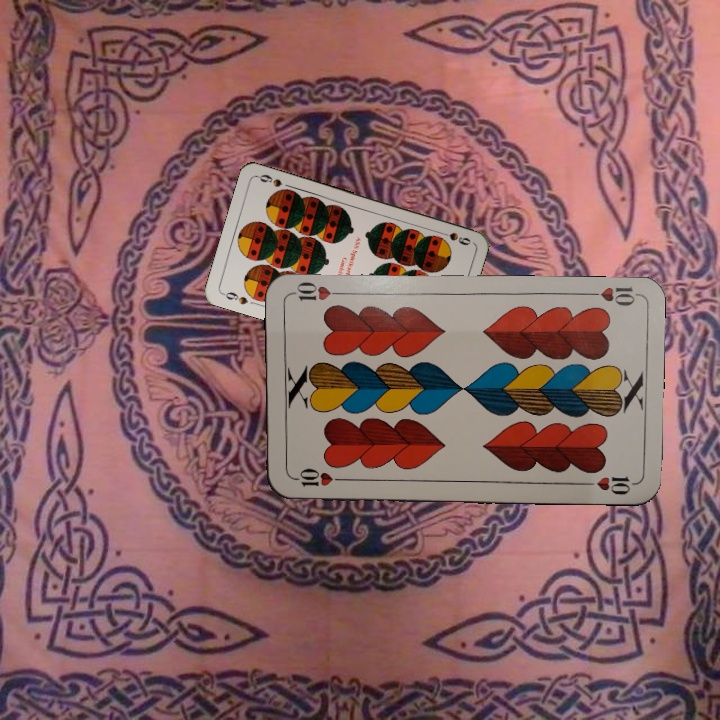H10: (580, 283, 639, 309), (287, 465, 346, 489)
S9: (434, 227, 473, 248), (218, 288, 250, 307)
